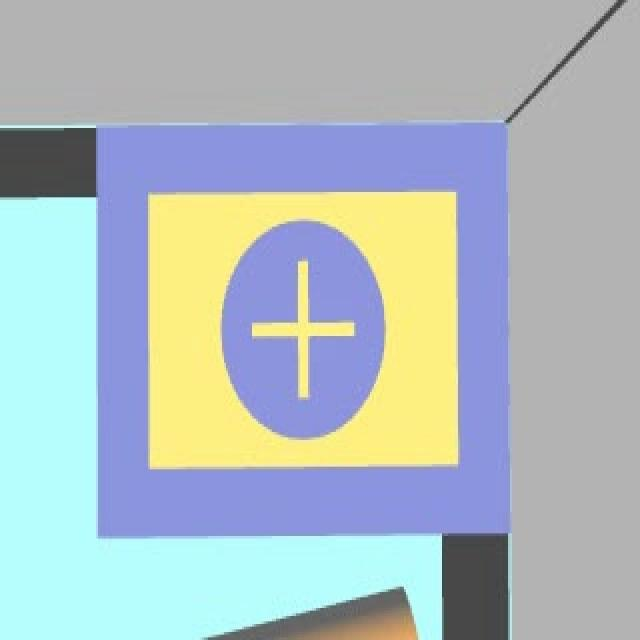Yellow-crosses: (249, 259, 368, 413)
